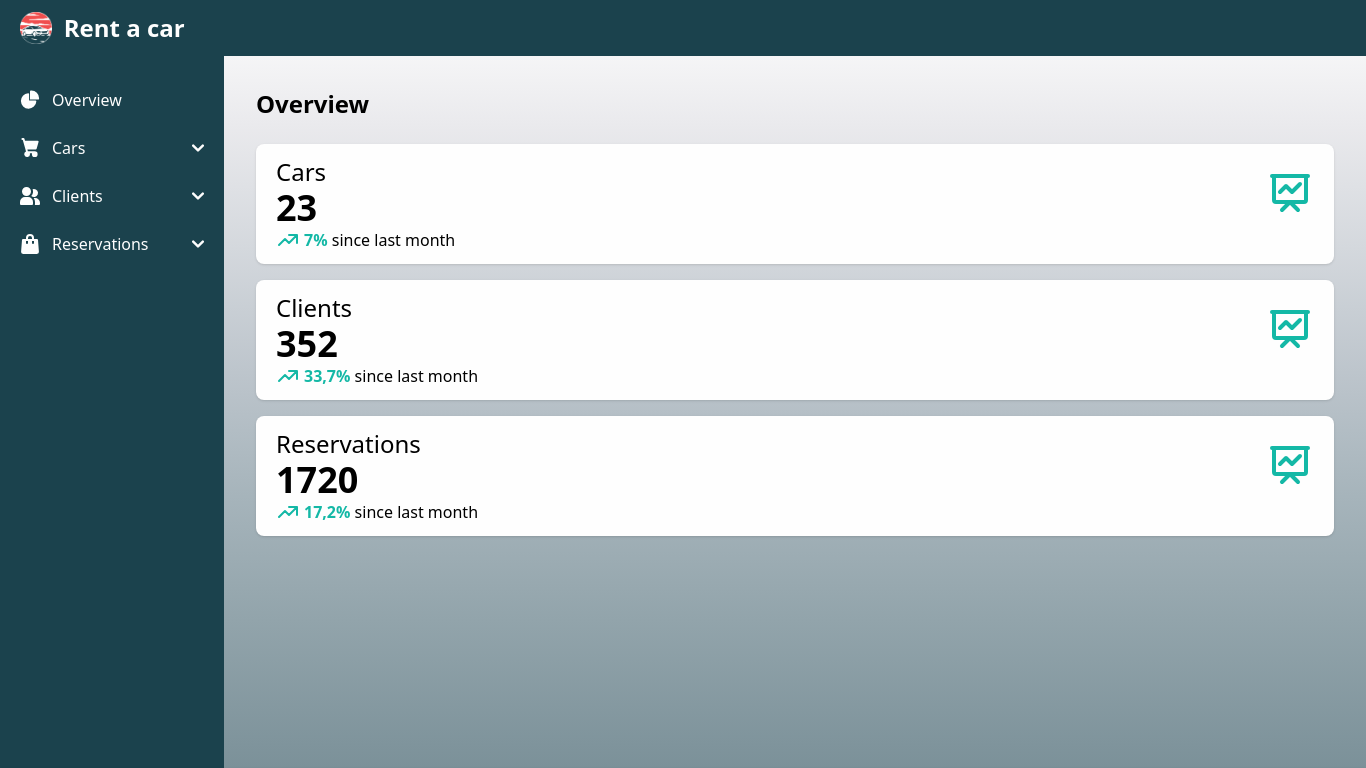
Test: Rent a car › Cars management › Delete car › when deleting a car from the table, should delete successfully
Click the button with test id "aside-car-button" at (112, 148), box [12, 128, 212, 168]
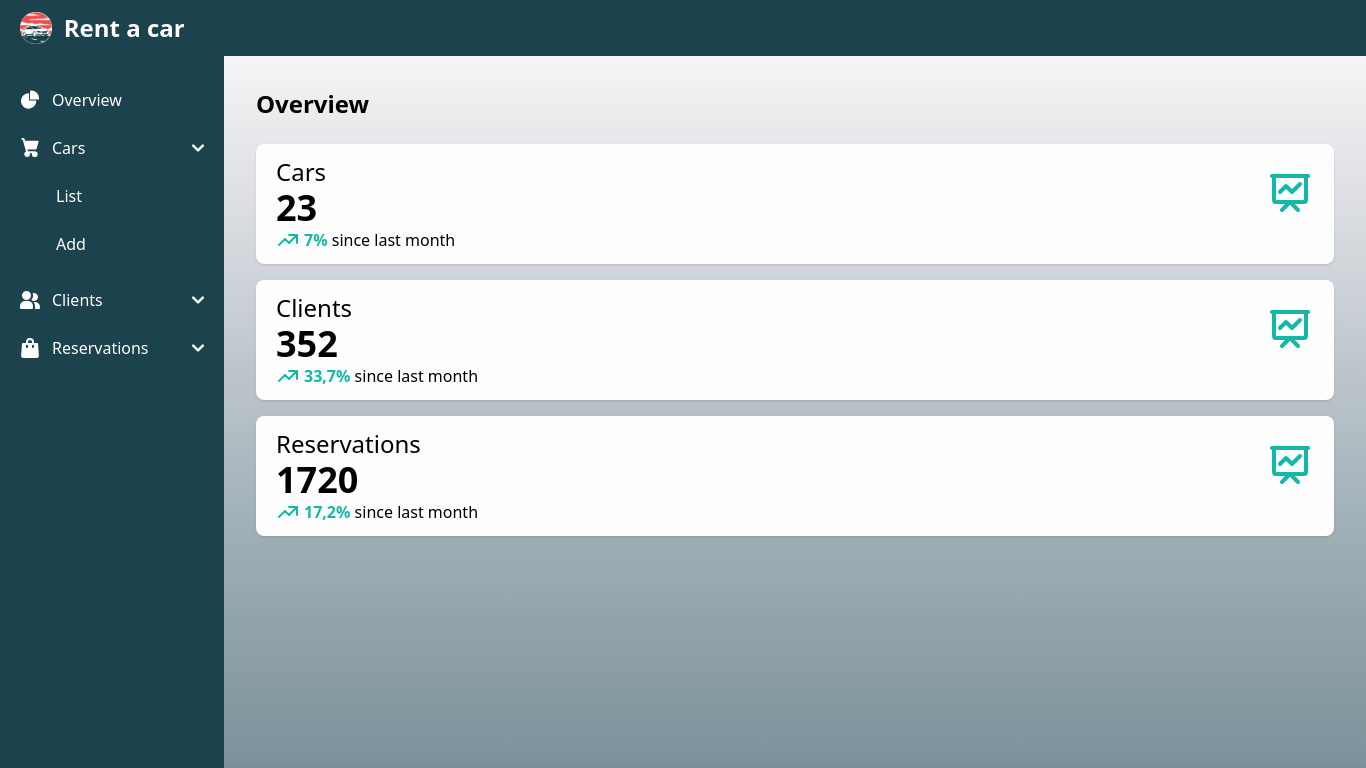
Click the link with test id "car-dropdown-list" at (69, 196), box [56, 185, 82, 207]
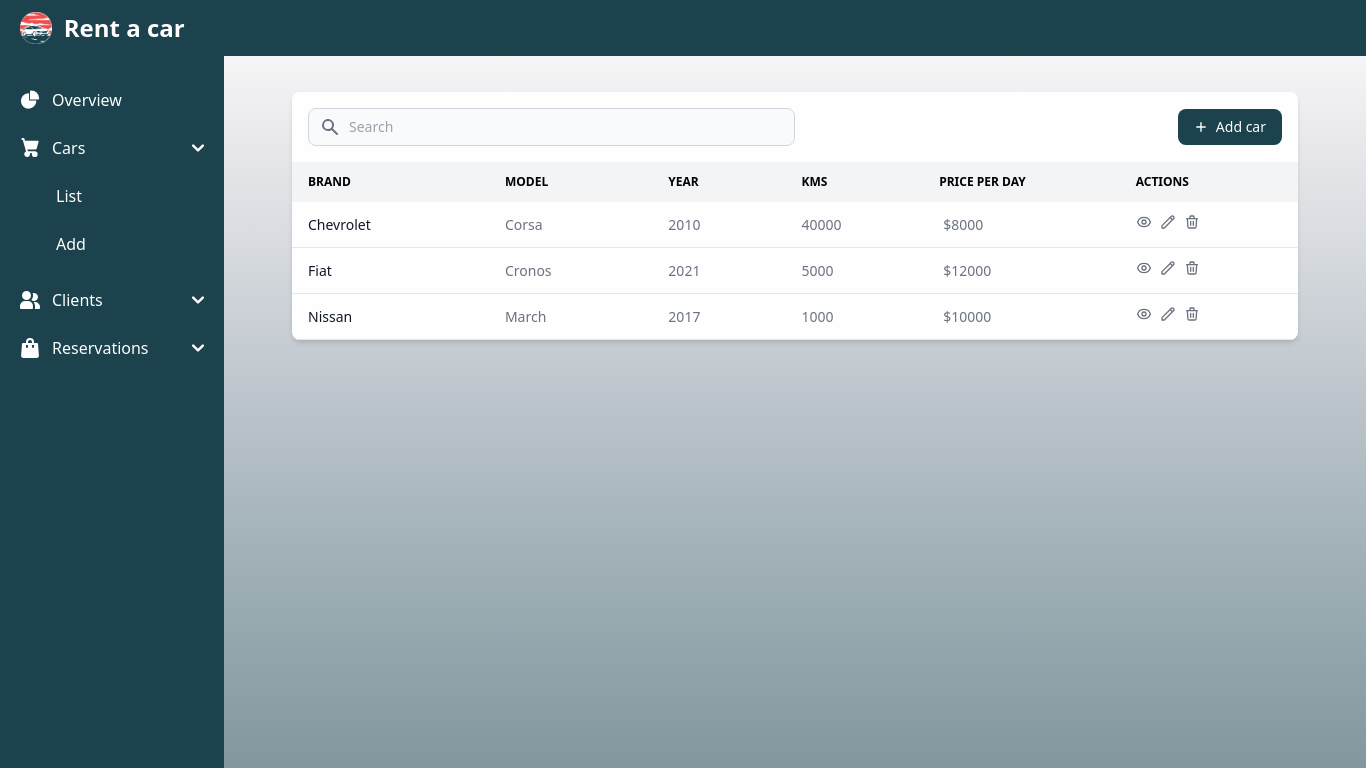
expect the number of rows with test id "car-row-table" is 3: met, box [292, 202, 1298, 248]; [292, 248, 1298, 294]; [292, 294, 1298, 340]
Click the button with test id "row-actions-delete" in the row of "Chevrolet" at (1192, 222), box [1184, 214, 1200, 230]
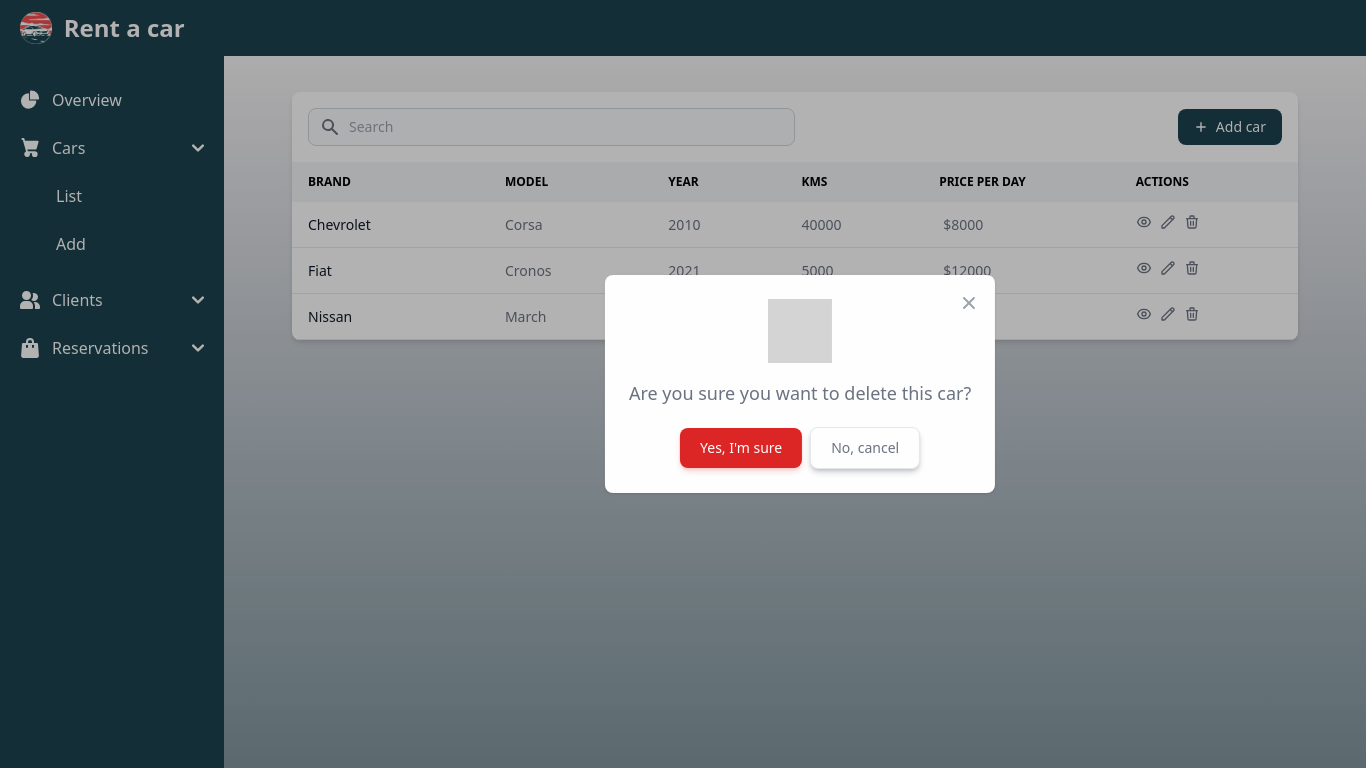
Click the button with test id "modal-btn-confirm" at (741, 448), box [680, 428, 802, 468]
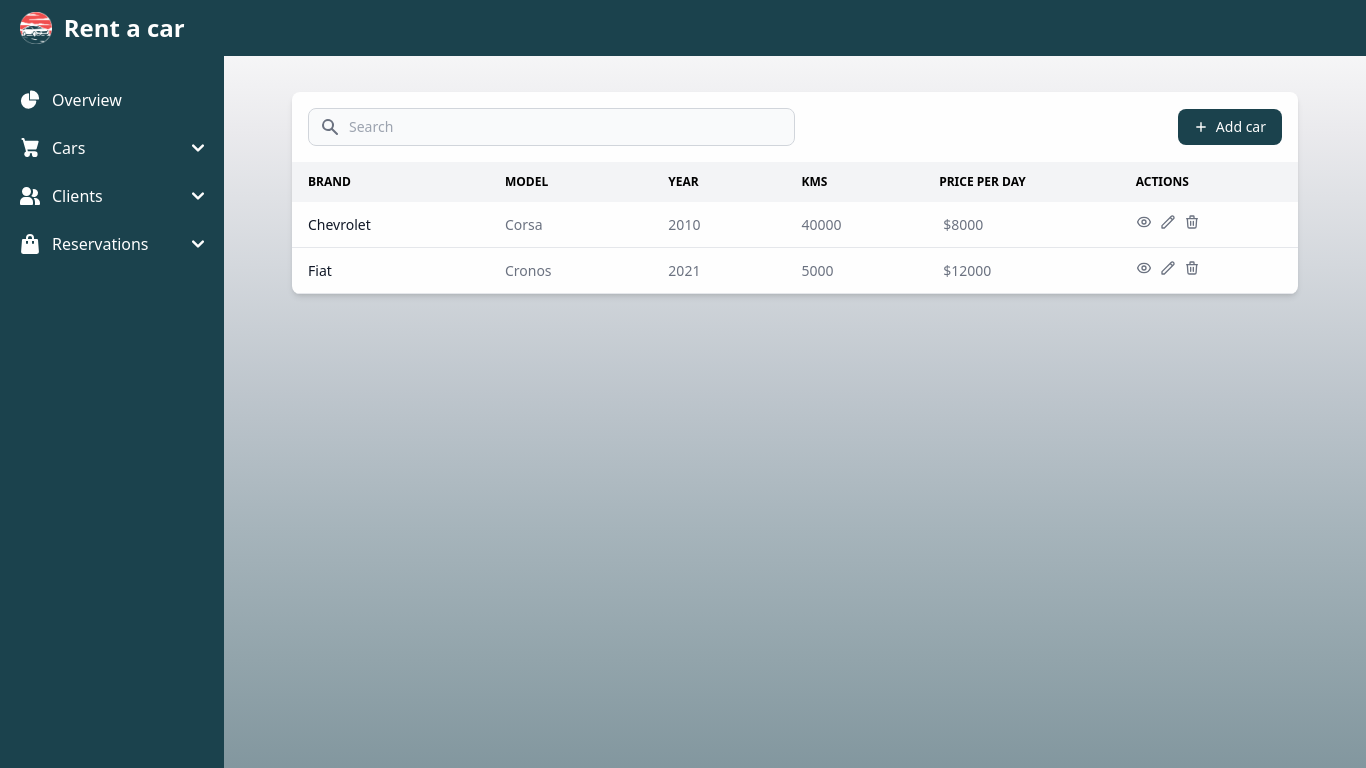
expect the number of rows with test id "car-row-table" is 2: met, box [292, 202, 1298, 248]; [292, 248, 1298, 294]
